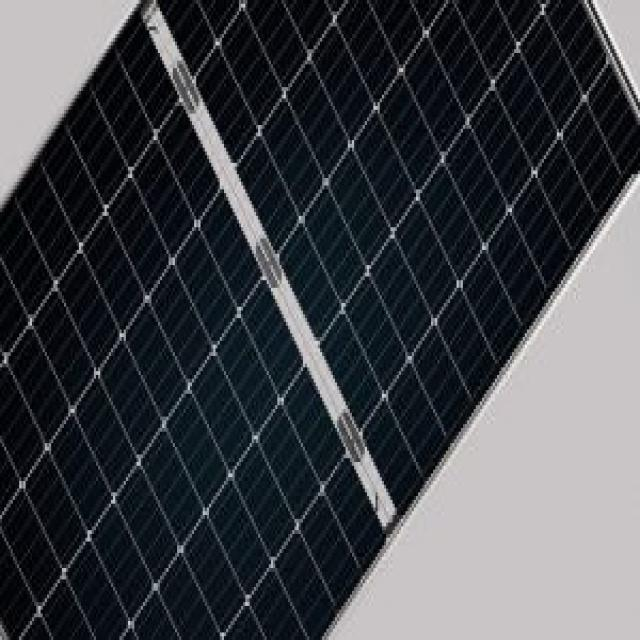clean-solar-panel: (162, 0, 640, 513), (0, 9, 385, 637)
